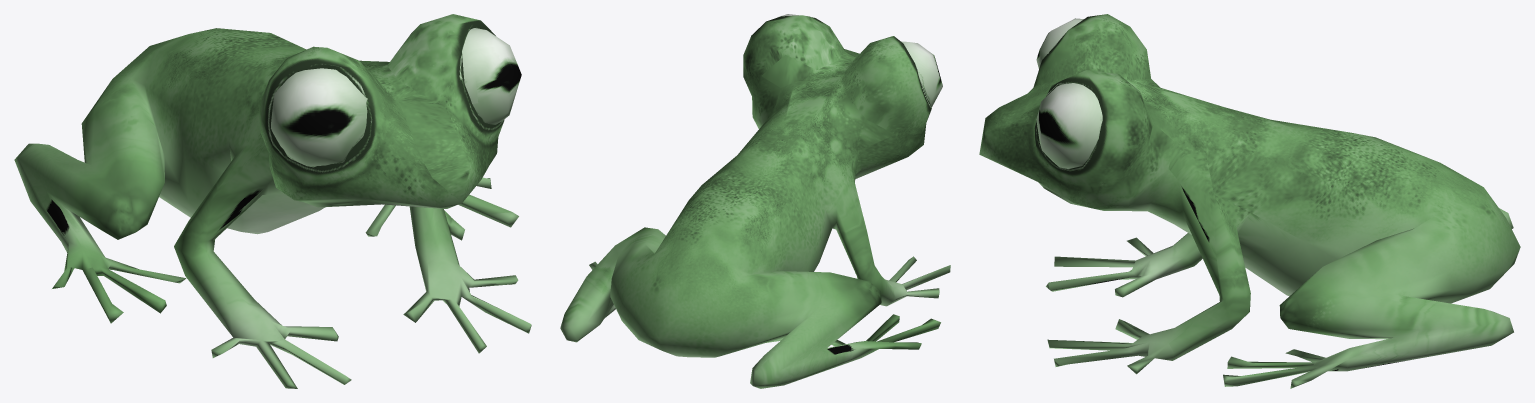
Rendered from Frog.fbx.
3 views of the same model, side by side, from view 1: azimuth 30°, elevation 25°; view 2: azimuth 150°, elevation 25°; view 3: azimuth 270°, elevation 25° (orthographic). The views are drawn at different scales.
Visible parts, largest first — view 1: Frog; view 2: Frog; view 3: Frog.
Boxes of the visible parts, box(x1,y1,x2,y2) form: Frog: box(14, 14, 531, 388); Frog: box(560, 14, 950, 388); Frog: box(979, 14, 1520, 388).
Size of the model in its own units: 88.95 by 61.14 by 109.
1 material, 1 textured.
